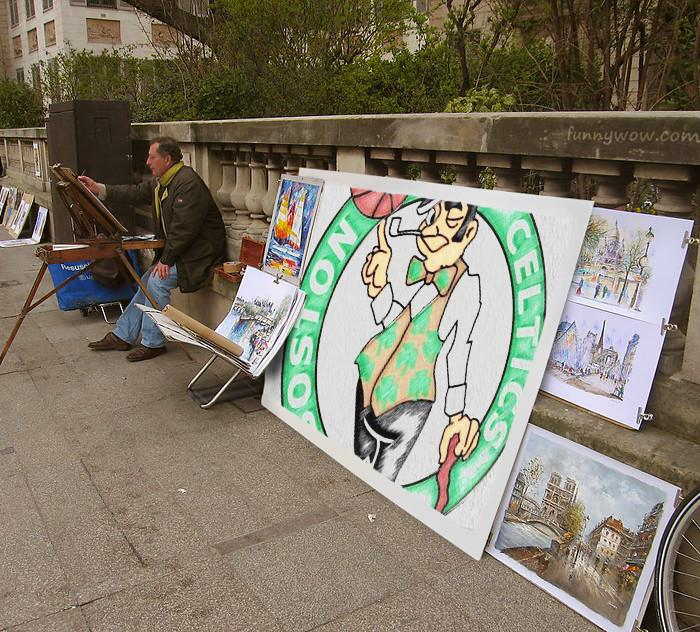Boston_Celtics: (285, 178, 549, 510)
